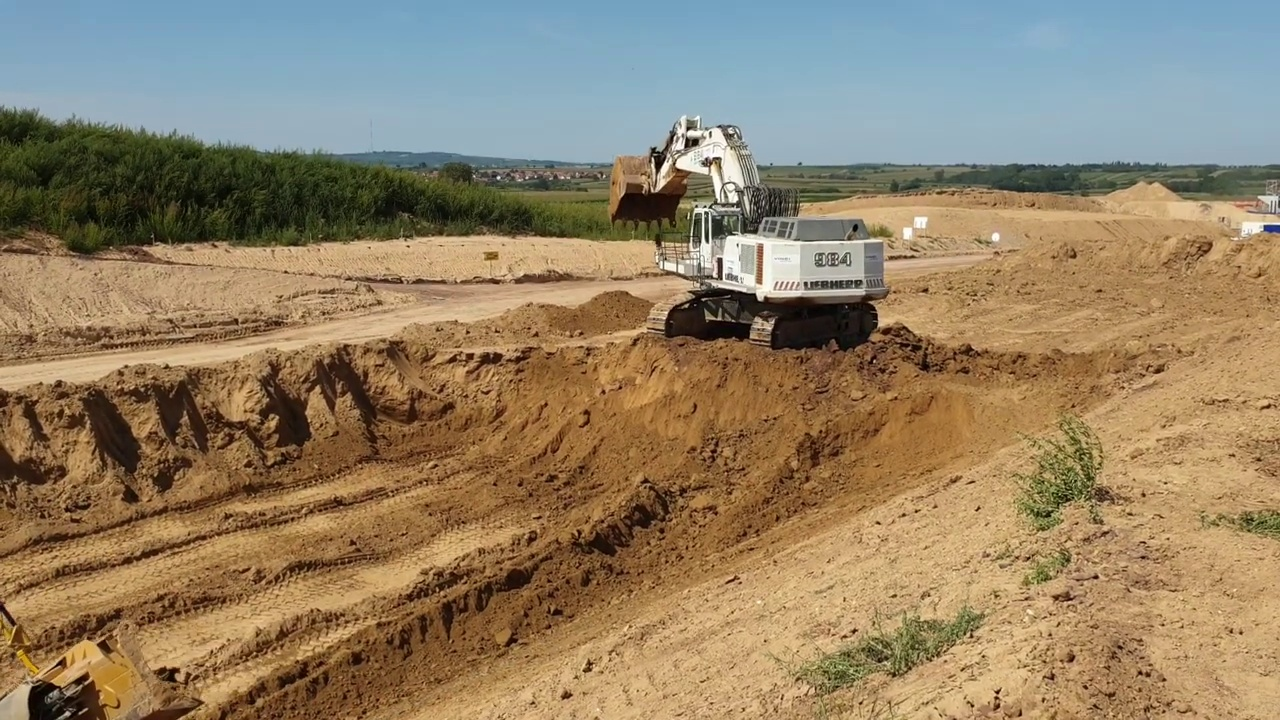bulldozer: (1, 586, 206, 720)
excavator: (604, 110, 892, 355)
